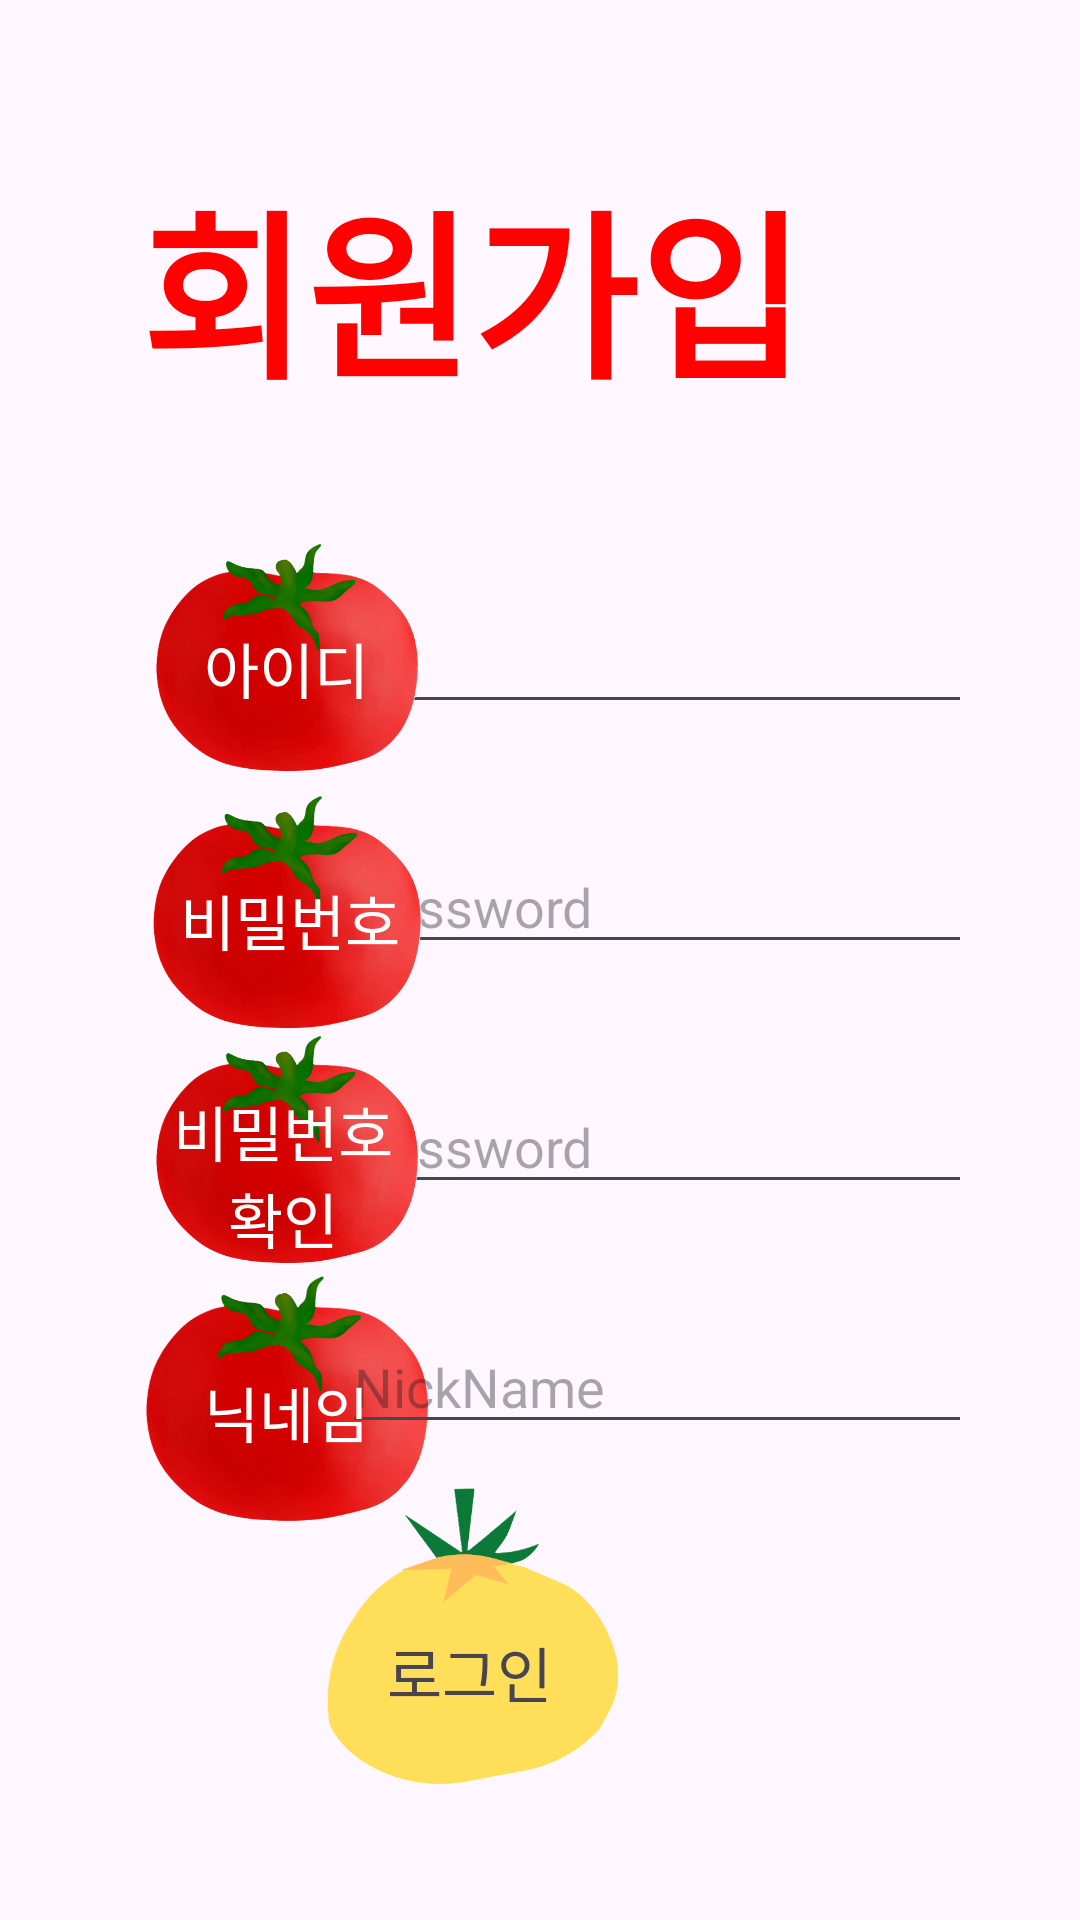

Locate icon controls on the screen. Image size 1080 × 1920, boxes as (x1, y1, x2, y2).
tomato: (156, 544, 465, 813), (153, 796, 465, 1071), (156, 1036, 465, 1305), (146, 1276, 465, 1566), (327, 1488, 619, 1784)
